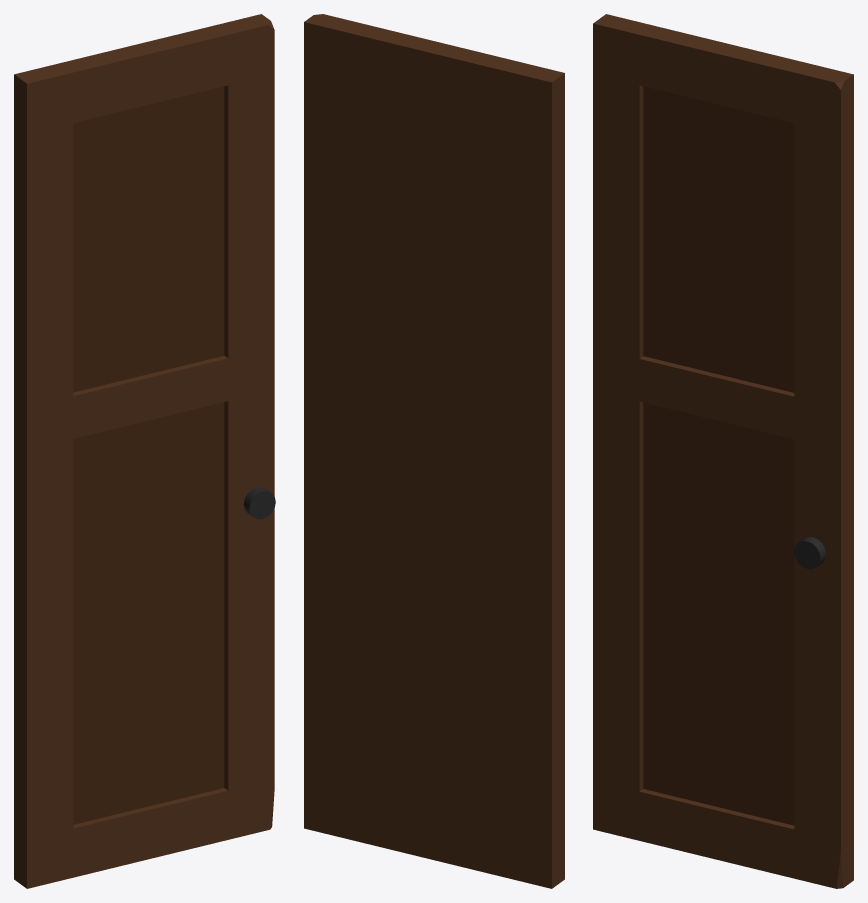
File: Furniture_03_Door1.glb
3 views of the same model, side by side, from view 1: azimuth 30°, elevation 25°; view 2: azimuth 150°, elevation 25°; view 3: azimuth 330°, elevation 25° (orthographic).
Parts seen in each view (by area): view 1: Furniture_03_Door1_LOD0; view 2: Furniture_03_Door1_LOD0; view 3: Furniture_03_Door1_LOD0.
Part boxes in pixels (x1=…): Furniture_03_Door1_LOD0: x1=14, y1=14, x2=275, y2=888; Furniture_03_Door1_LOD0: x1=304, y1=14, x2=564, y2=888; Furniture_03_Door1_LOD0: x1=593, y1=14, x2=853, y2=888.
Size of what is drawn, in the model's own units: 0.55 by 1.71 by 0.0915.
Materials: 1 (1 with a texture image).
